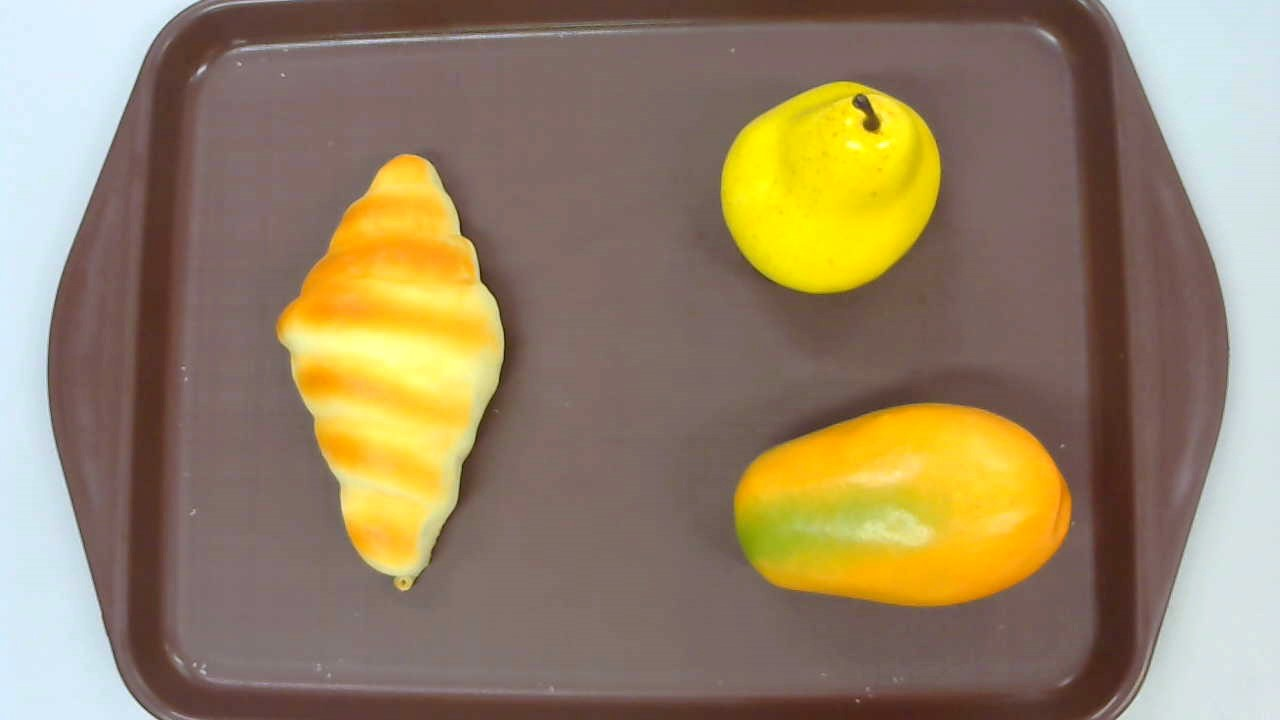croissant: (275, 153, 504, 591)
papya: (732, 402, 1071, 609)
yellow pear: (720, 81, 940, 296)
